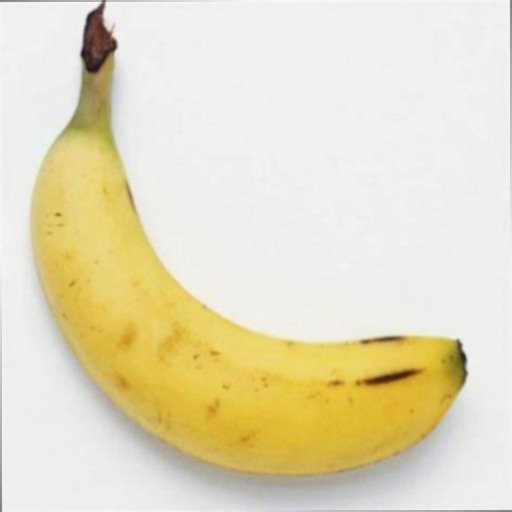fruit: (406, 186, 497, 511)
